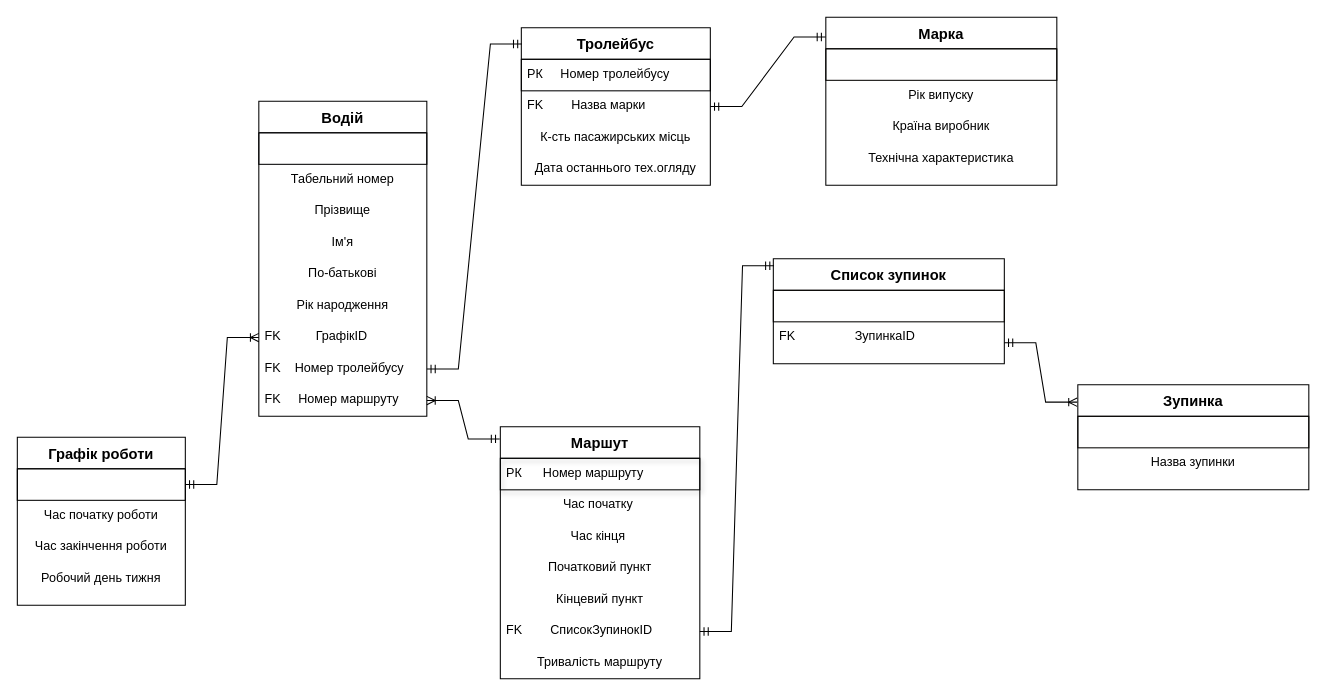
Some shapes in this 1326 by 696 pixel diagram are drawn without their labels. The shapes that lost their labels are listed below. From the top down, each one's centre as x and y in pixels, then its label:
the point at 941,64: РК Назва марки
the point at 342,148: РК ВодійID
the point at 888,305: РК СписокЗупинокID
the point at 1193,431: РК ЗупинкаID
the point at 100,484: РК ГрафікID
